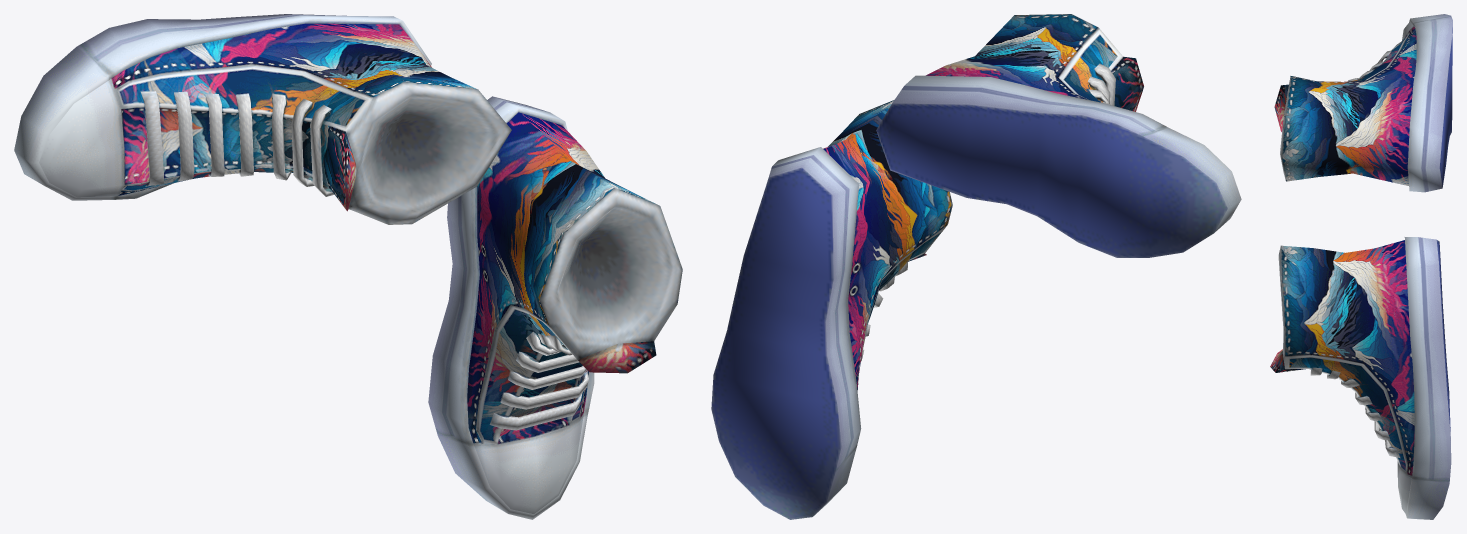
Rendered from mountain-techno-feet.gltf.
The picture shows the model from 3 angles, left to right: view 1: azimuth 30°, elevation 25°; view 2: azimuth 150°, elevation 25°; view 3: azimuth 270°, elevation 25°; orthographic projection. The views are drawn at different scales.
Parts seen in each view (by area): view 1: mountain-techno-feet; view 2: mountain-techno-feet; view 3: mountain-techno-feet.
Boxes of the visible parts, <box> form: mountain-techno-feet: <box>14,14,682,519</box>; mountain-techno-feet: <box>711,14,1241,519</box>; mountain-techno-feet: <box>1270,14,1452,519</box>.
Size of the model in its own units: 1.57 by 1.46 by 0.652.
1 material, 1 textured.
